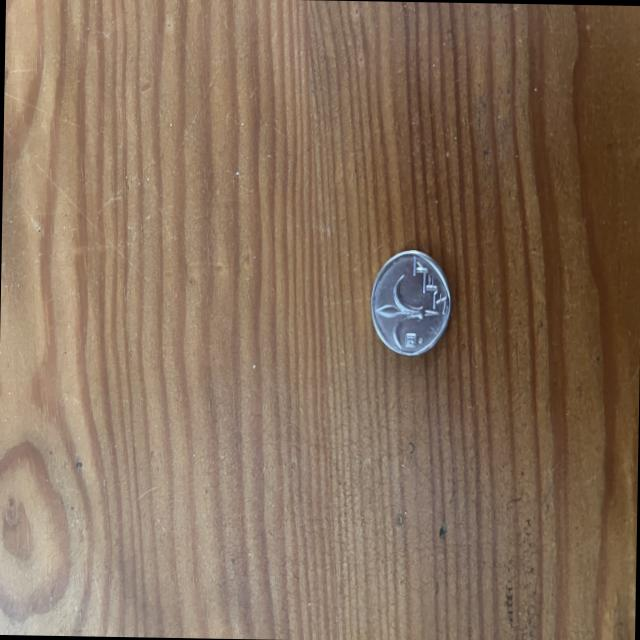1-shekel: (363, 246, 452, 358)
